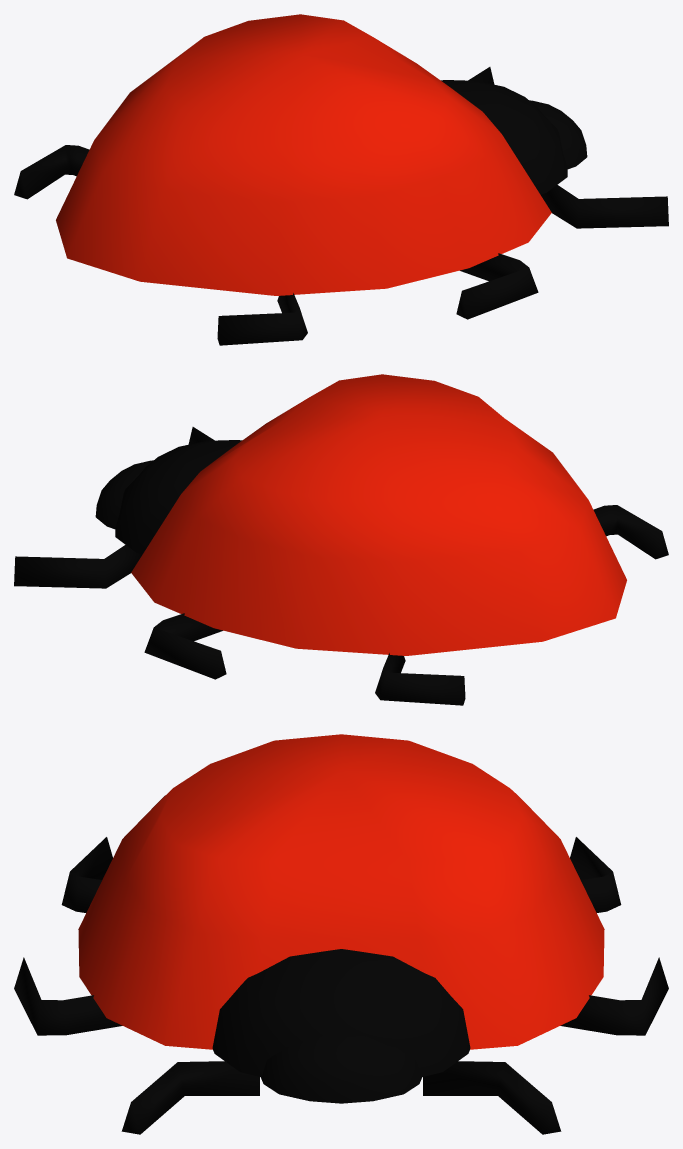
File: enemyBug.fbx
3 renders of one model, top to bottom at view 1: azimuth 30°, elevation 25°; view 2: azimuth 150°, elevation 25°; view 3: azimuth 270°, elevation 25°, orthographic. The views are drawn at different scales.
Visible parts, largest first — view 1: EnemyBug; view 2: EnemyBug; view 3: EnemyBug.
Boxes of the visible parts, x1=… form: EnemyBug: x1=14, y1=14, x2=668, y2=345; EnemyBug: x1=14, y1=374, x2=668, y2=705; EnemyBug: x1=14, y1=734, x2=668, y2=1134.
Bounding box in the file's own units: 73.81 × 23.43 × 68.63.
